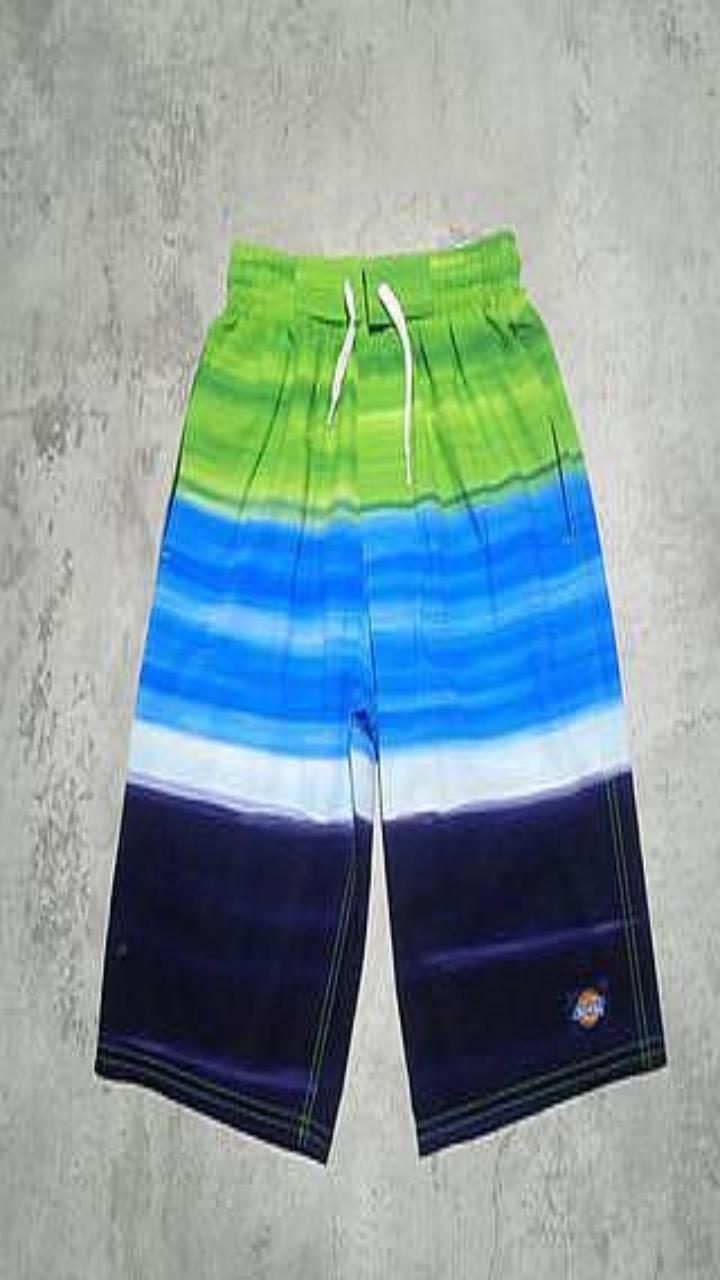Shorts: (95, 229, 665, 1162)
